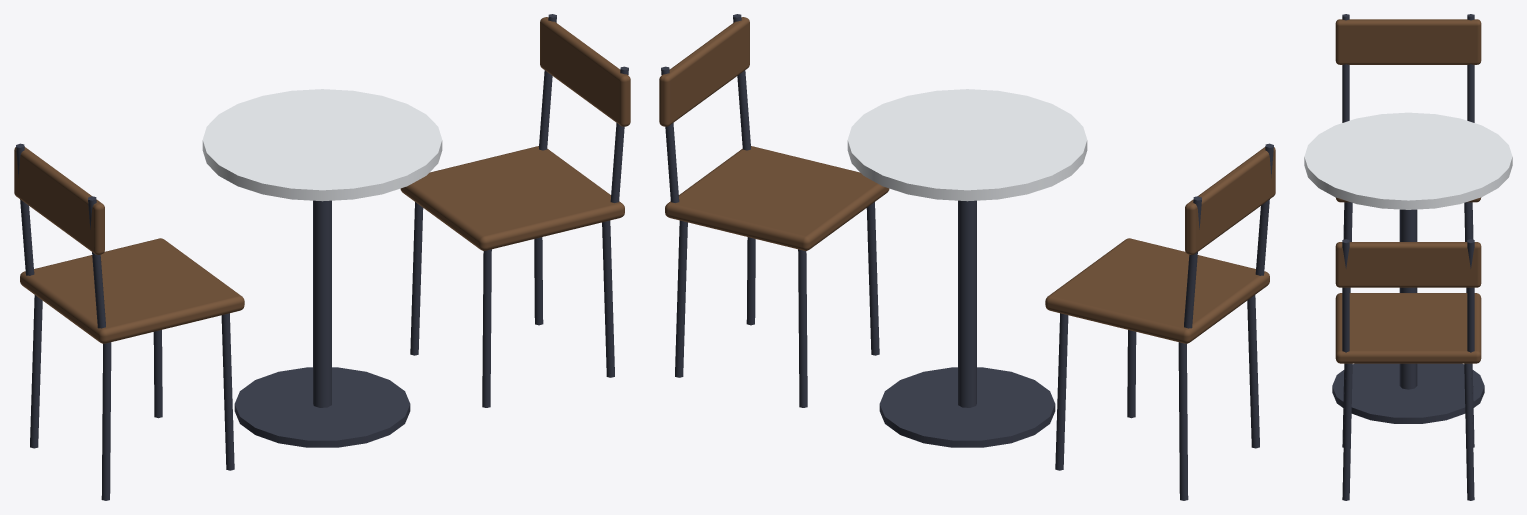
File: hsp-010.glb
3 renders of one model, left to right at view 1: azimuth 30°, elevation 25°; view 2: azimuth 150°, elevation 25°; view 3: azimuth 270°, elevation 25°, orthographic. The views are drawn at different scales.
Visible parts, largest first — view 1: walnut, dark_steel, white; view 2: walnut, dark_steel, white; view 3: walnut, white, dark_steel.
Boxes of the visible parts, <box> form: walnut: <box>14,17,630,343</box>; dark_steel: <box>16,14,628,500</box>; white: <box>202,89,442,201</box>; walnut: <box>659,17,1275,343</box>; dark_steel: <box>661,14,1273,500</box>; white: <box>847,89,1087,201</box>; walnut: <box>1335,19,1481,363</box>; white: <box>1304,112,1512,209</box>; dark_steel: <box>1332,14,1484,500</box>.
Bounding box in the file's own units: 1.56 × 0.8413 × 0.6.
